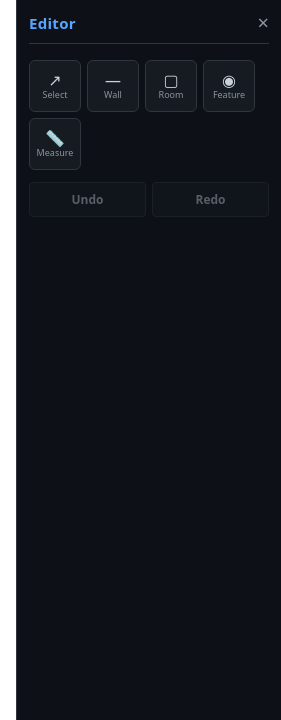
Test: InteriorEditor › shows feature type selector when draw-feature is active
This screenshot has width=281, height=720.
Click the text "Feature" at (229, 94), box [213,90,245,99]
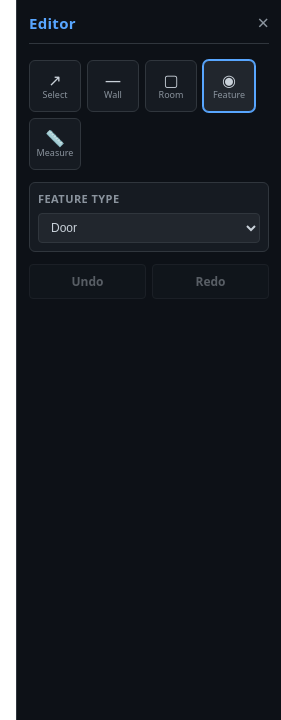
Expected: the text "Feature Type" is shown, [38,190,120,206]
